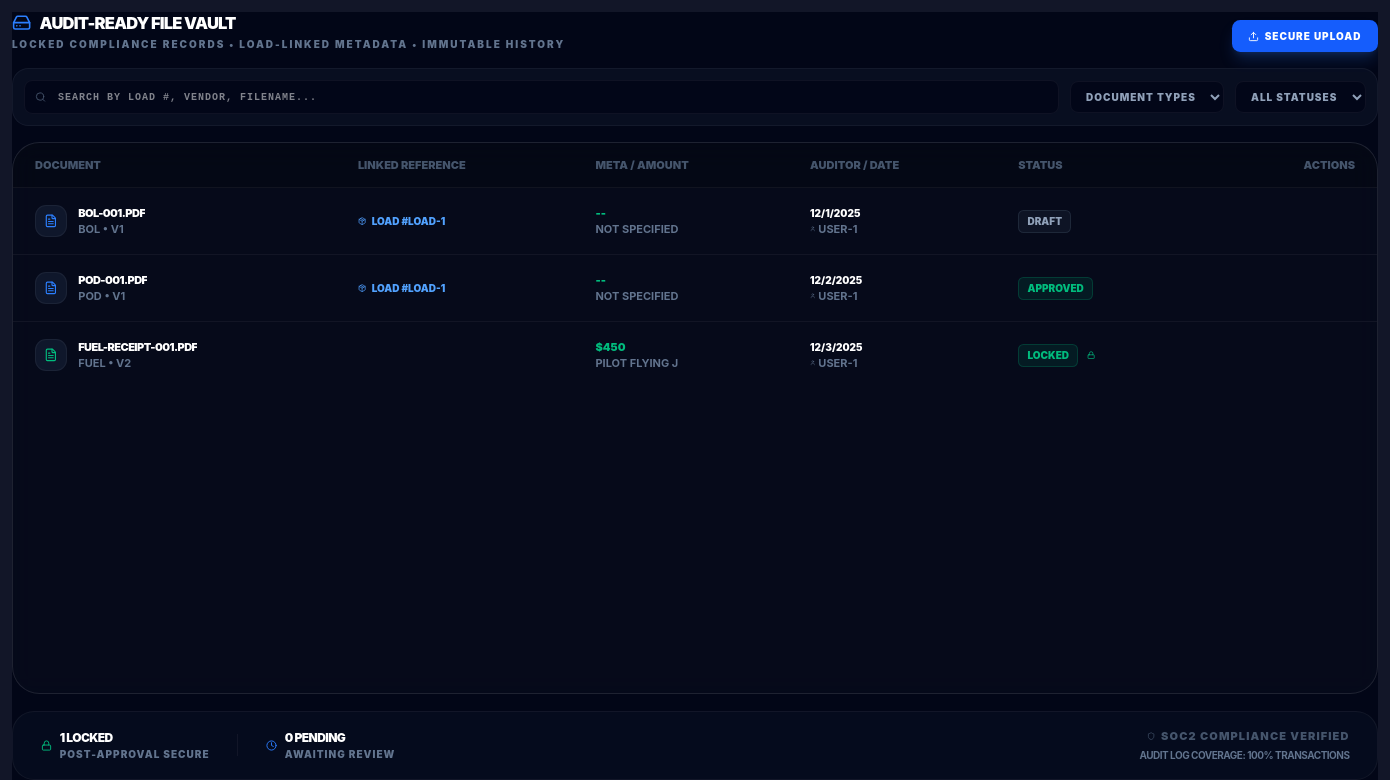
Test: FileVault — document upload and review (R-FS-06-03) › shows empty state when no docs match filter
Expected: the text "BOL-001.pdf" is shown, x1=78 y1=205 x2=145 y2=221
Type "NONEXISTENT_DOC_XYZ" into the field with placeholder "SEARCH BY LOAD #, VENDOR, FILENAME..." at [542, 97], box x1=24 y1=80 x2=1059 y2=114
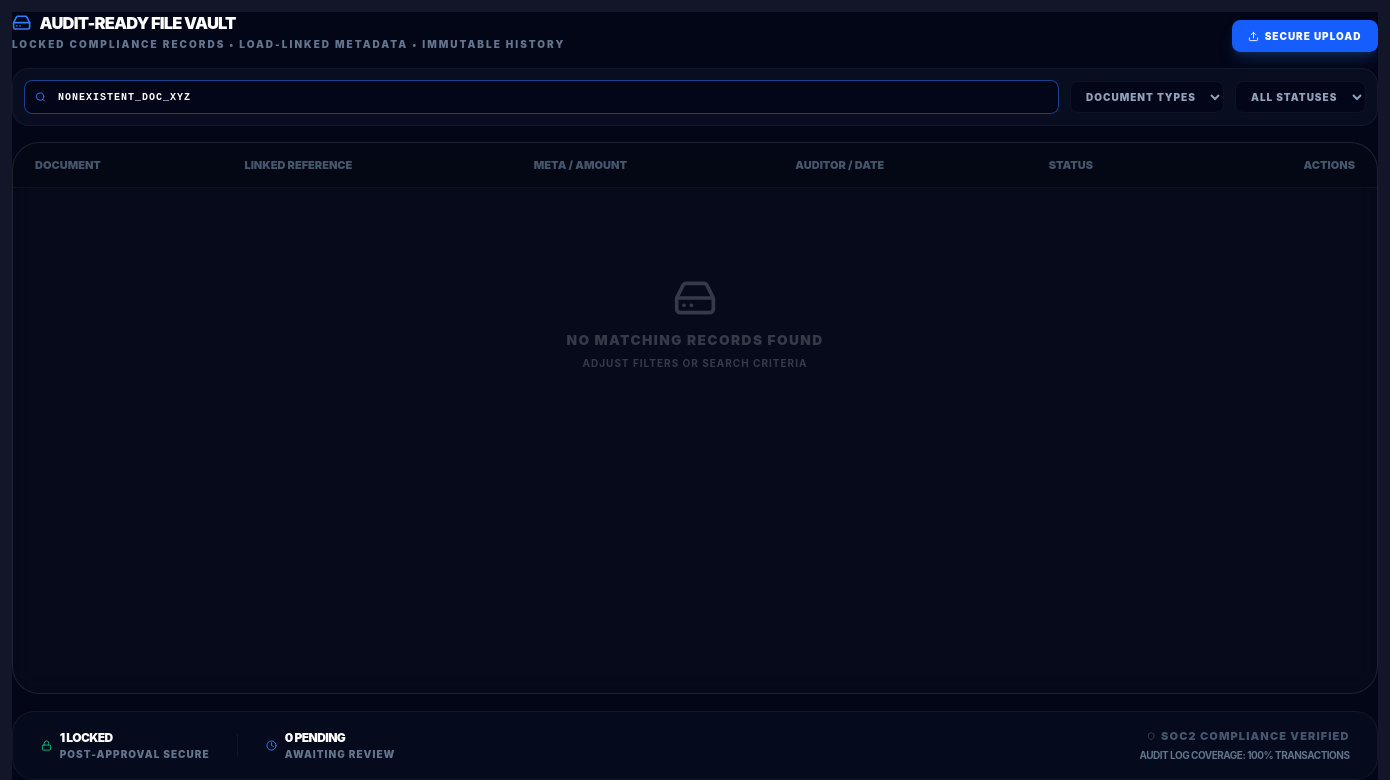
Now the text "BOL-001.pdf" is gone
Now the text "POD-001.pdf" is gone
